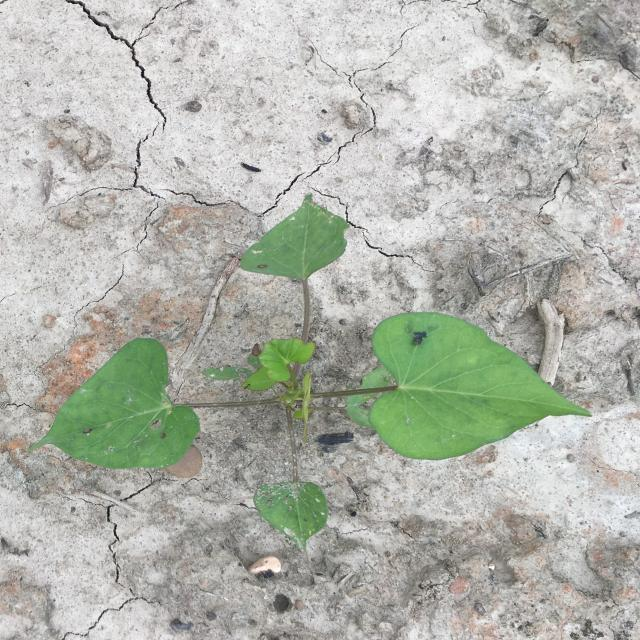MorningGlory: (29, 192, 592, 554)
